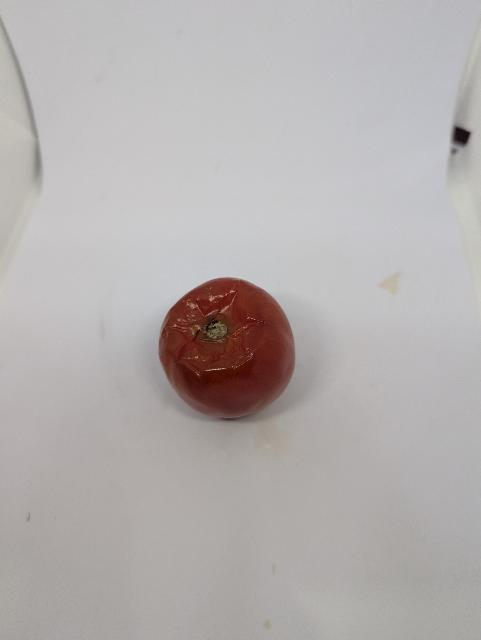defect: (151, 275, 300, 423)
